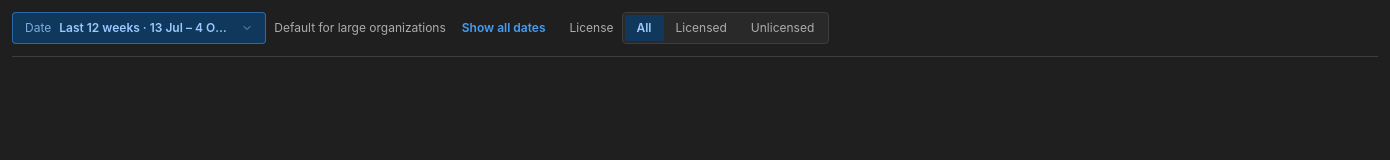
Scenario: FilterBar's tenant default dates › shows the last 12 weeks with their dates on a large tenant, says why, and widens to all dates in one click
The width and height of the screenshot is (1390, 160).
Expected: the button "Date Last 12 weeks · 13 Jul – 4 Oct 2026" is shown, x1=12 y1=12 x2=266 y2=44
Expected: the text "Default for large organizations" is shown, x1=274 y1=20 x2=446 y2=36
Click the button "Show all dates": (504, 28) x1=454 y1=12 x2=554 y2=44
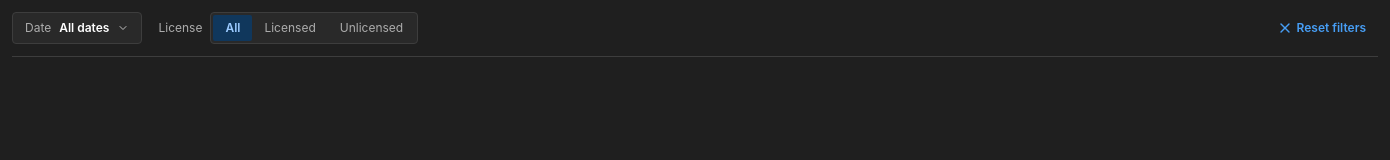
Expected: the button "Date All dates" is shown, x1=12 y1=12 x2=142 y2=44
Expected: the text "Default for large organizations" is gone
Note: Reset filters returns to the tenant's default, not to every date.
Click the button "Reset filters": (1321, 28) x1=1264 y1=12 x2=1378 y2=44
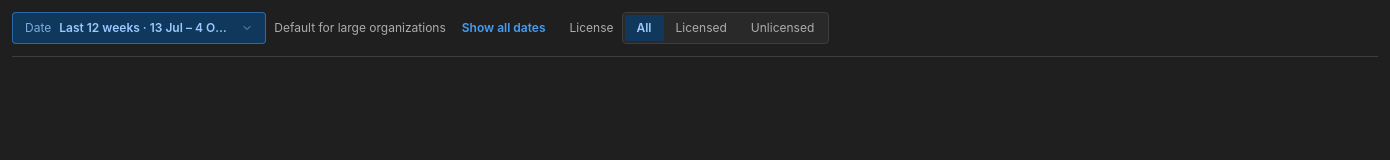
Expected: the button "Date Last 12 weeks · 13 Jul – 4 Oct 2026" is shown, x1=12 y1=12 x2=266 y2=44
